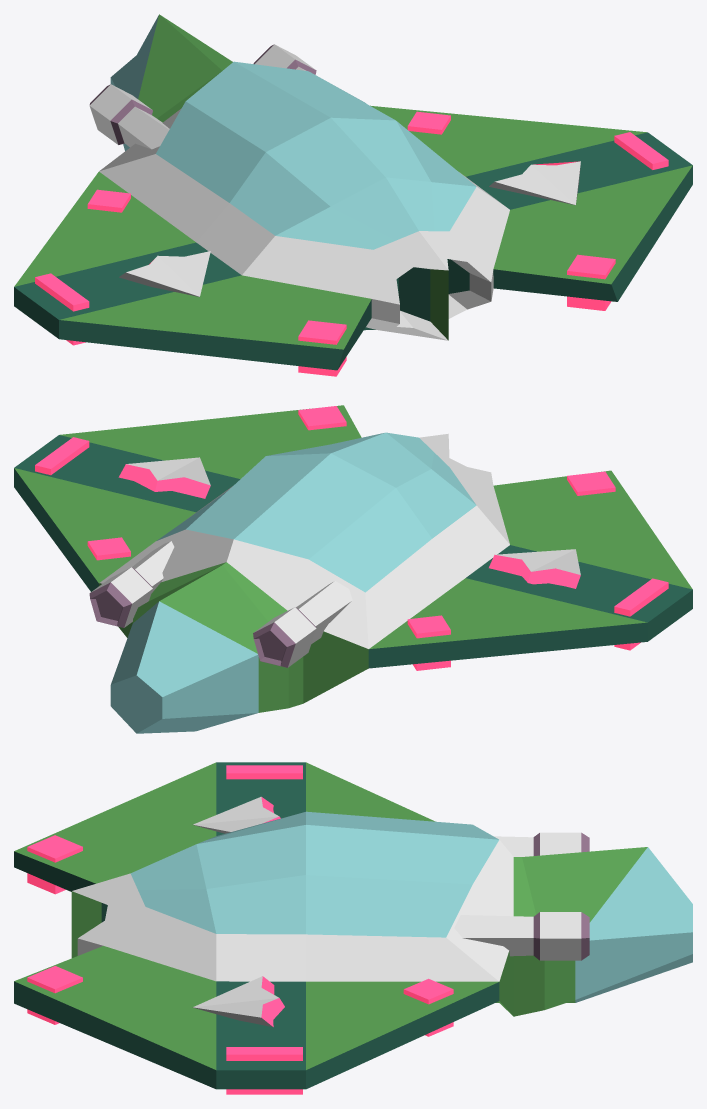
File: PlayerShip.fbx
The picture shows the model from 3 angles, top to bottom: view 1: azimuth 30°, elevation 25°; view 2: azimuth 150°, elevation 25°; view 3: azimuth 270°, elevation 25°; orthographic projection.
Visible parts, largest first — view 1: PlayerShip; view 2: PlayerShip; view 3: PlayerShip.
Part boxes in pixels (x1,y1,x2,y2): PlayerShip: [14, 14, 692, 376]; PlayerShip: [14, 405, 692, 733]; PlayerShip: [14, 762, 692, 1094].
Size of the model in its own units: 904 by 244 by 843.
